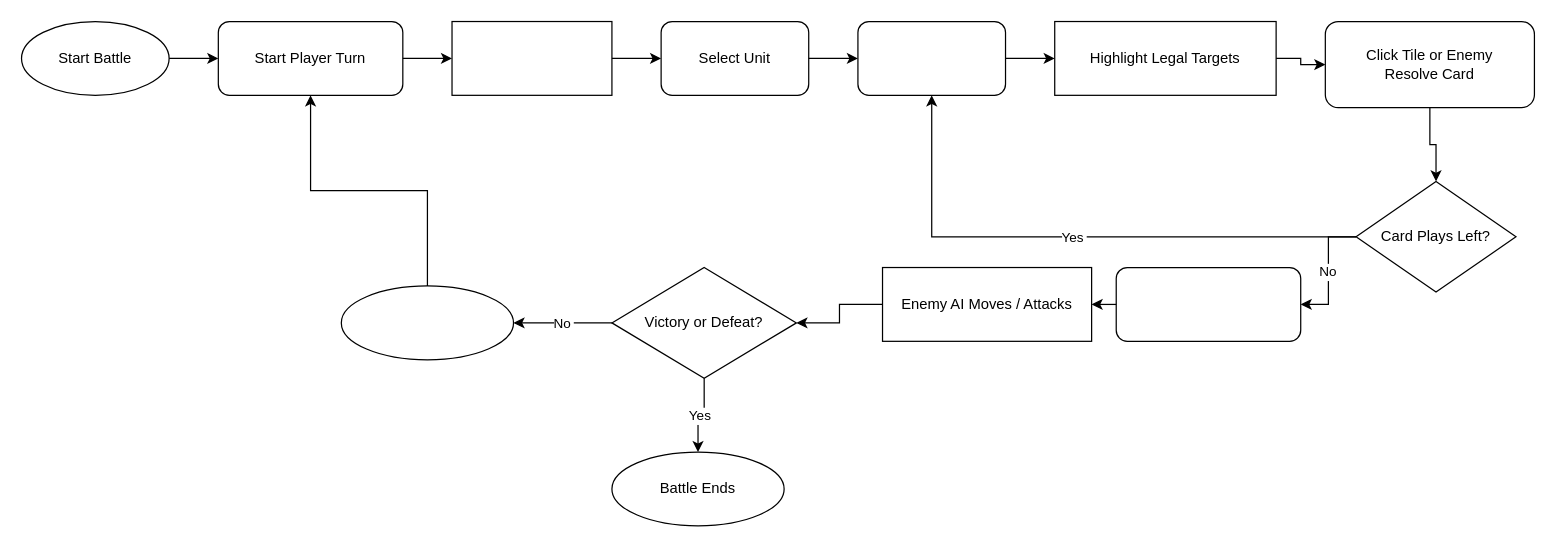
This 1556x547 diagram has some shape labels left out. Here are the shapes that lost their labels. From the top down, the box of each, then its label:
(451, 20, 612, 95): Draw 3 Cards
(857, 20, 1006, 95): Select Card
(340, 285, 514, 360): Next Player Turn
(1115, 266, 1301, 341): End Player Turn
